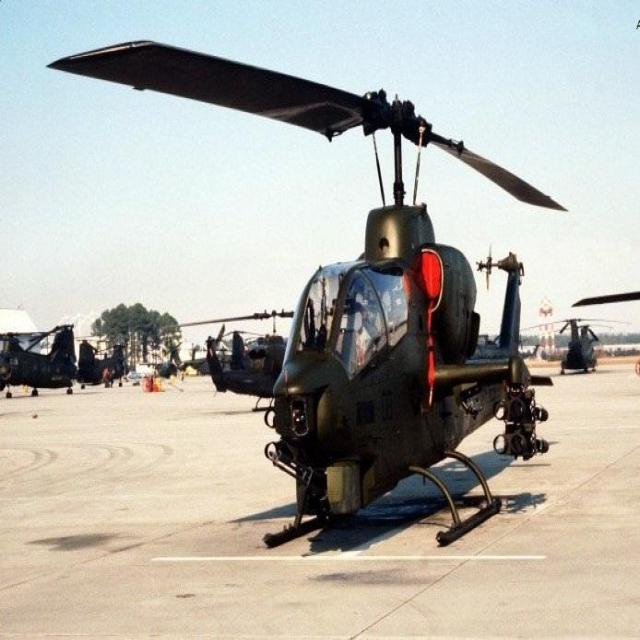MIL_HELO: (45, 30, 633, 561)
